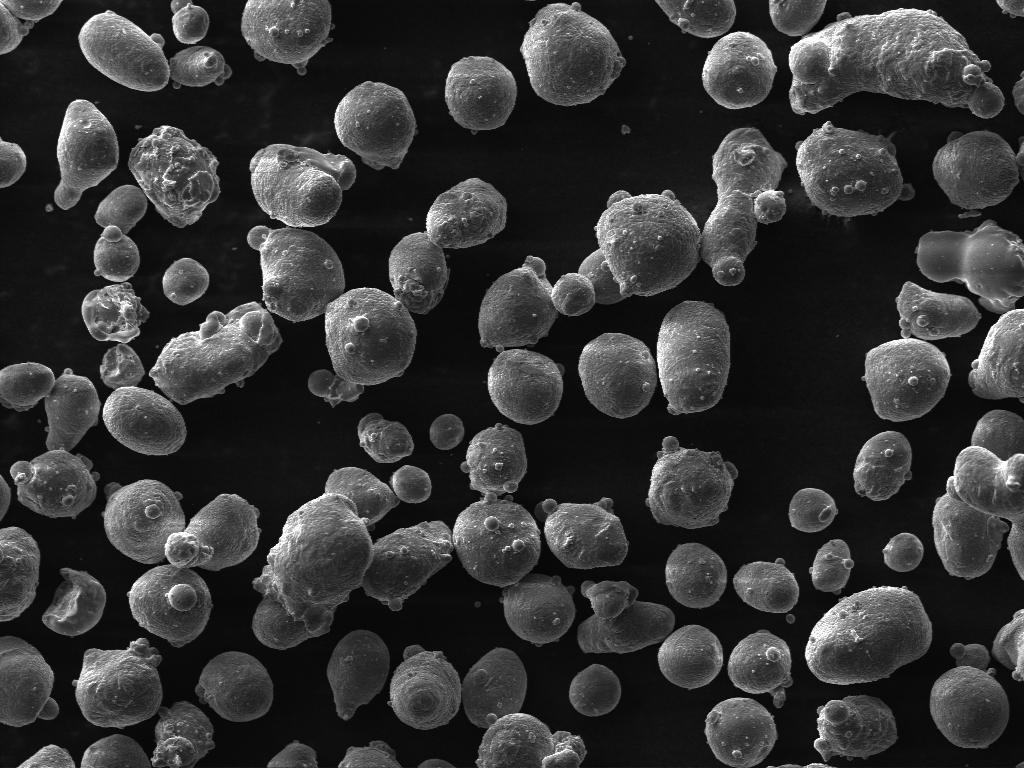Powder: (788, 8, 1004, 118), (252, 494, 374, 649), (578, 190, 700, 304), (700, 128, 786, 286), (150, 302, 280, 404), (308, 288, 416, 405), (806, 586, 932, 684), (478, 256, 596, 349), (520, 2, 626, 105), (796, 122, 902, 217), (916, 220, 1024, 311), (952, 446, 1024, 577), (100, 344, 184, 456), (248, 226, 344, 322), (128, 126, 218, 227), (0, 362, 100, 452), (250, 144, 356, 227), (646, 436, 736, 527), (930, 644, 1008, 748), (362, 520, 452, 610), (658, 302, 730, 414), (74, 638, 162, 728), (78, 10, 170, 92), (452, 502, 540, 586), (164, 494, 260, 569), (864, 338, 950, 421), (334, 82, 416, 169), (54, 100, 118, 210), (578, 580, 674, 653), (242, 0, 334, 76), (104, 480, 186, 564), (934, 488, 1008, 579), (128, 566, 212, 646), (934, 132, 1020, 210), (534, 498, 628, 569), (578, 334, 656, 418), (476, 714, 586, 768), (390, 646, 460, 730), (10, 450, 96, 518), (702, 32, 776, 109), (326, 630, 390, 719), (168, 0, 232, 88), (426, 178, 506, 248), (488, 350, 562, 424), (196, 652, 274, 722), (814, 696, 898, 760), (94, 184, 148, 282), (0, 636, 58, 727), (504, 574, 576, 646), (462, 648, 526, 728), (968, 310, 1024, 401), (446, 58, 516, 130), (706, 698, 778, 766), (896, 282, 980, 340), (390, 232, 448, 313), (462, 424, 526, 494), (326, 466, 400, 525), (42, 568, 106, 635), (658, 626, 724, 689), (82, 282, 150, 343), (728, 630, 792, 694), (152, 702, 214, 768), (666, 542, 728, 608), (854, 432, 912, 500), (0, 526, 40, 621), (734, 558, 800, 612), (0, 0, 62, 53), (656, 0, 736, 38), (358, 412, 412, 463), (570, 664, 622, 716), (972, 410, 1024, 460), (80, 734, 152, 768), (808, 540, 854, 593), (162, 258, 210, 305), (992, 610, 1024, 680), (790, 488, 838, 532), (770, 0, 826, 36), (338, 740, 400, 768), (882, 532, 924, 572), (390, 466, 430, 503), (268, 740, 318, 768), (18, 744, 76, 767), (430, 414, 464, 450), (0, 140, 26, 187), (418, 758, 454, 768)
